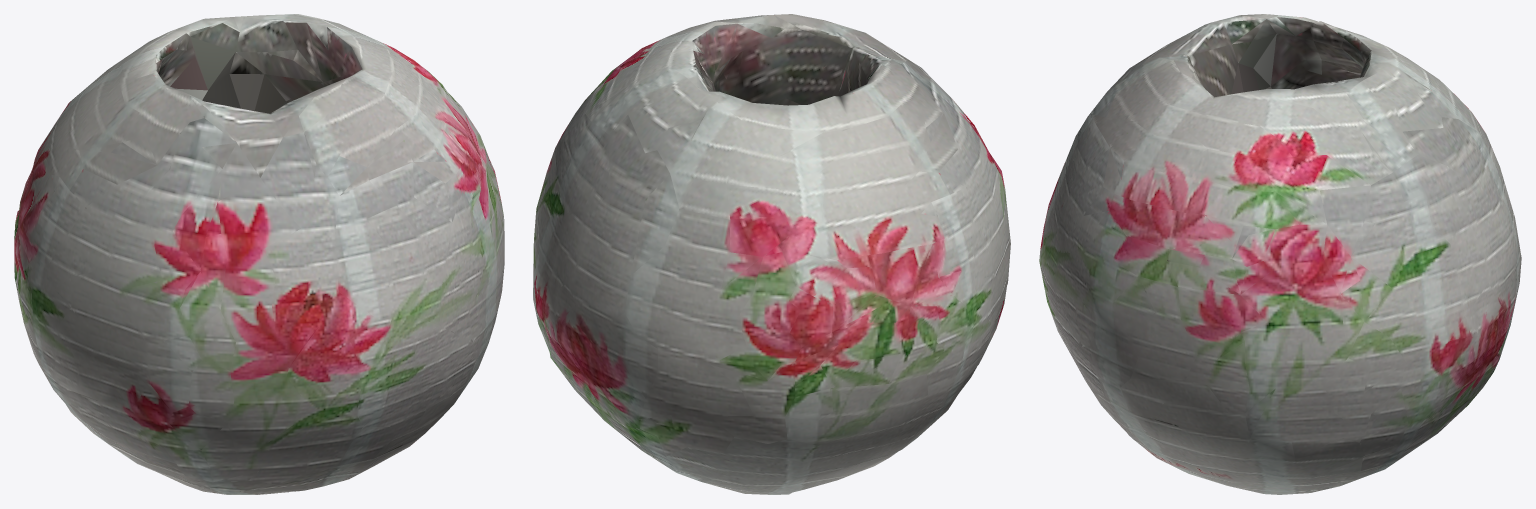
Rendered from As3 Yona Flowers.glb.
3 renders of one model, left to right at view 1: azimuth 30°, elevation 25°; view 2: azimuth 150°, elevation 25°; view 3: azimuth 270°, elevation 25°, orthographic. The views are drawn at different scales.
Bounding box in the file's own units: 1000 × 934 × 985.
Materials: 1 (1 with a texture image).
